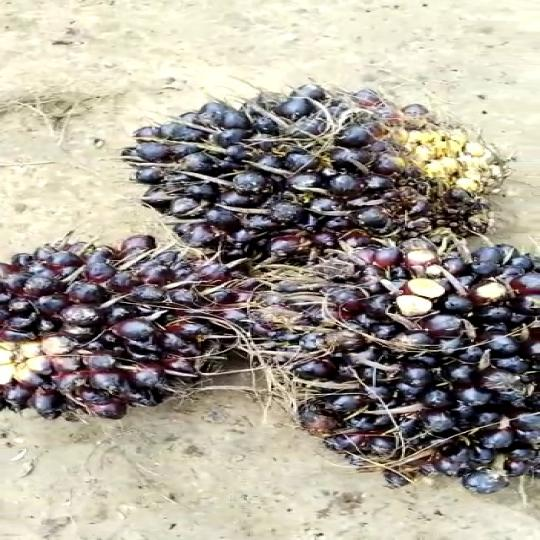mentah: (272, 233, 540, 501), (124, 83, 510, 257), (0, 232, 316, 440)
